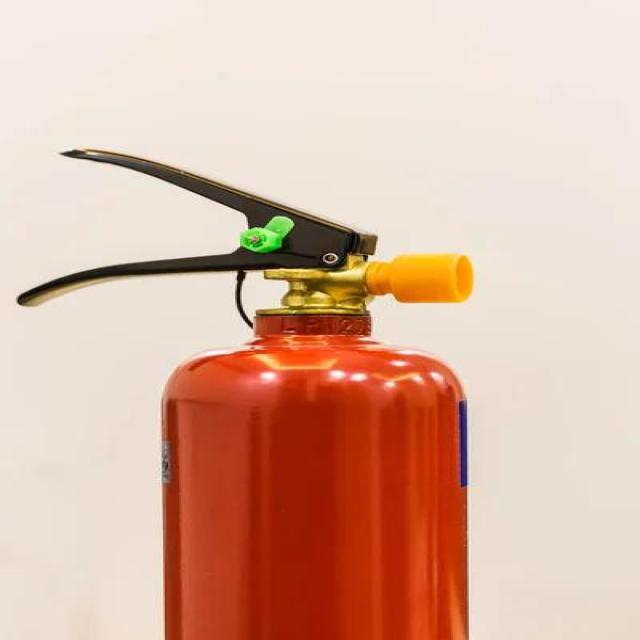fire_extinguisher: (1, 135, 489, 639)
